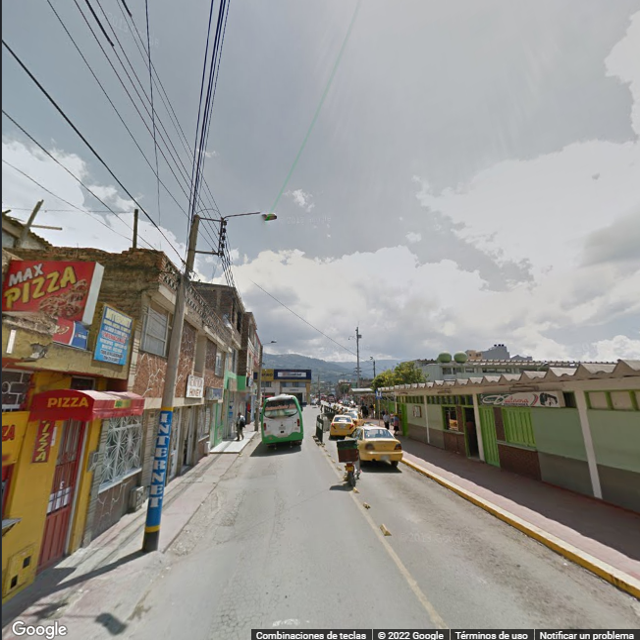D20: (205, 570, 260, 637)
